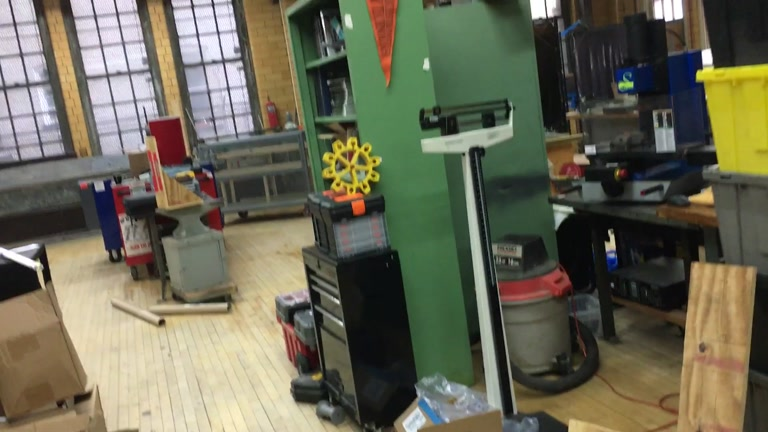gear: (321, 135, 383, 197)
